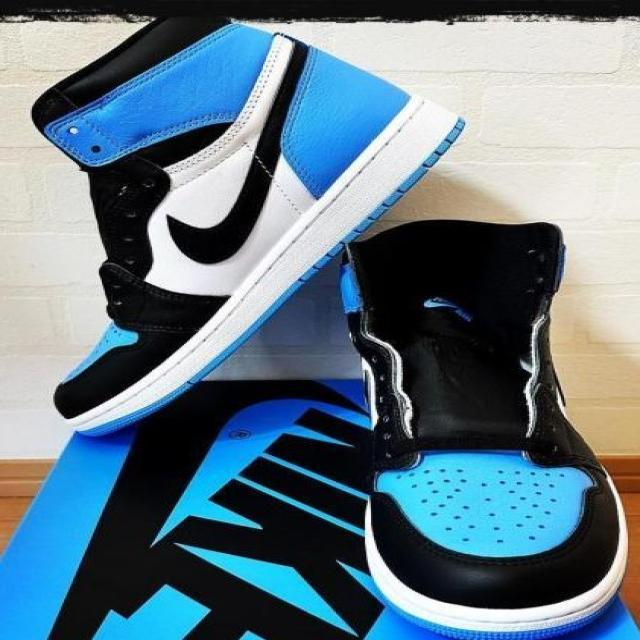J1_InsoleChar: (27, 12, 629, 637)
J1_MateComp: (29, 14, 466, 437), (338, 217, 629, 637)
J1_ShoeLogo: (45, 376, 387, 638)
J1_StitchPattern: (91, 31, 301, 324), (382, 453, 590, 555), (163, 31, 293, 186), (344, 309, 421, 465), (518, 224, 566, 446), (518, 307, 554, 443)
